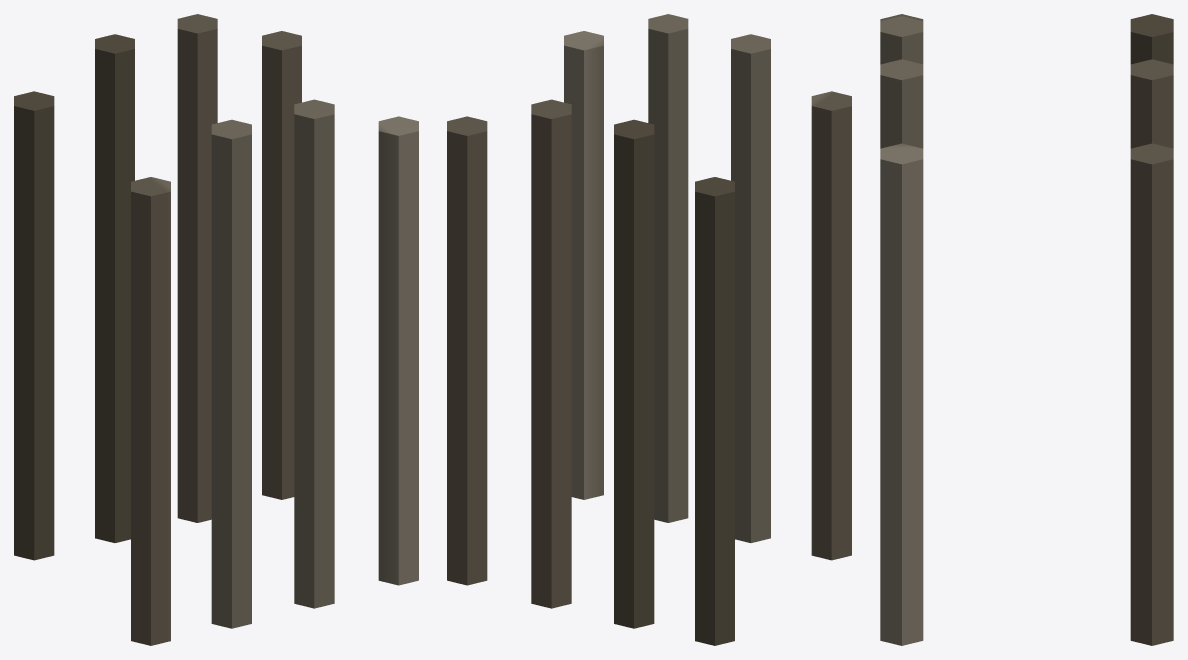
File: GateIron 1.fbx
3 renders of one model, left to right at view 1: azimuth 30°, elevation 25°; view 2: azimuth 150°, elevation 25°; view 3: azimuth 270°, elevation 25°, orthographic. The views are drawn at different scales.
Visible parts, largest first — view 1: pCylinder10; view 2: pCylinder10; view 3: pCylinder10.
Boxes of the visible parts, <box> form: pCylinder10: <box>14,14,418,645</box>; pCylinder10: <box>447,14,851,645</box>; pCylinder10: <box>880,14,1173,645</box>.
Size of the model in its own units: 4.09 by 6.65 by 3.37.
